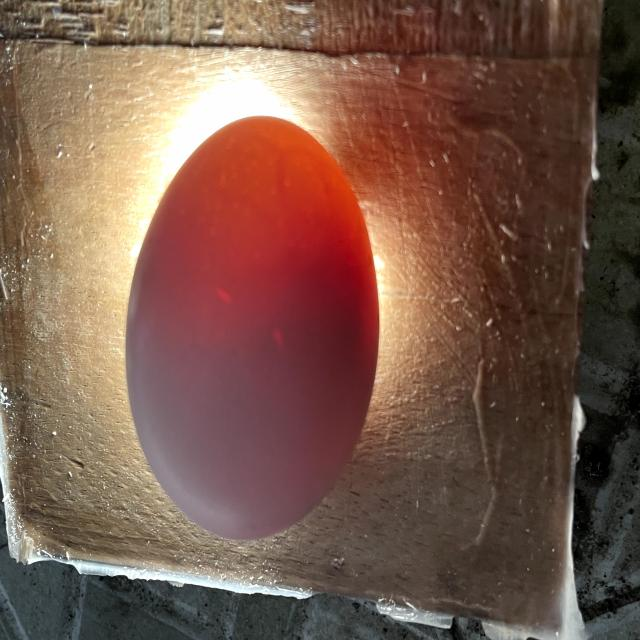fertile: (126, 117, 379, 540)
